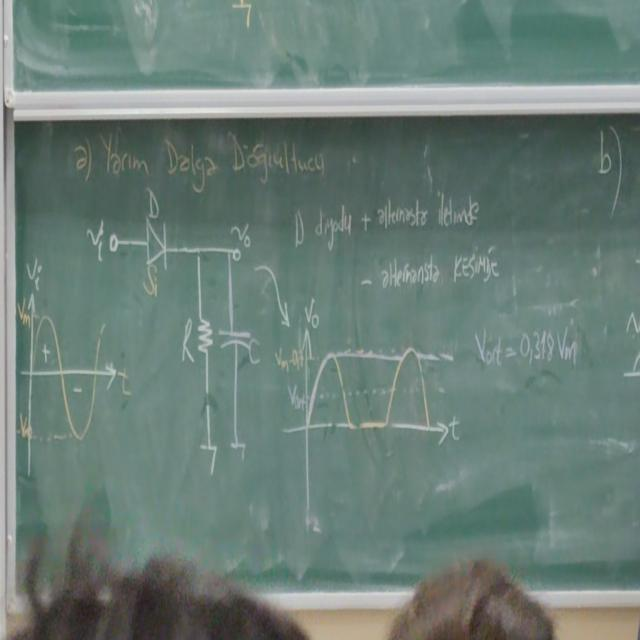image: (81, 191, 285, 474), (278, 294, 472, 533), (14, 243, 134, 489)
text: (286, 187, 504, 298), (93, 122, 327, 190)
